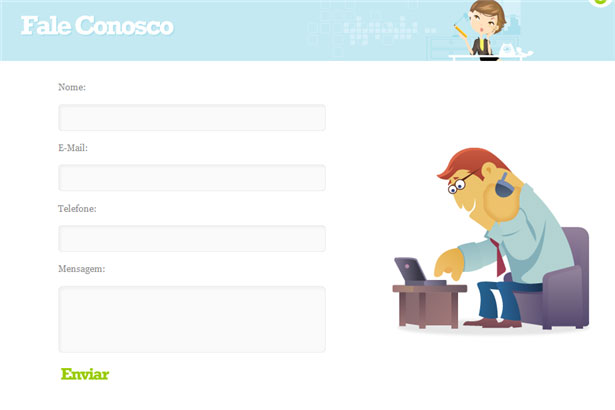_form_: (1, 1, 416, 410)
field: (56, 282, 327, 354), (57, 222, 326, 253), (57, 101, 327, 131), (56, 163, 327, 192)
field_with_label: (54, 263, 330, 357), (54, 202, 328, 255), (55, 82, 329, 133), (55, 142, 329, 193)
